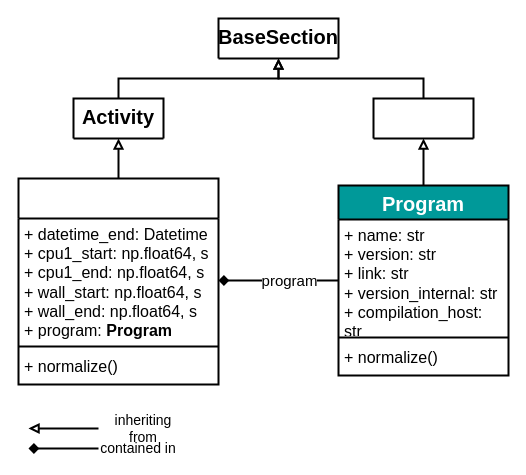
This 526x475 diagram has some shape labels left out. Here are the shapes that lost their labels. From the top down, the box of each, then its label:
(372, 97, 474, 139): Entity
(17, 177, 219, 385): BaseSimulation
